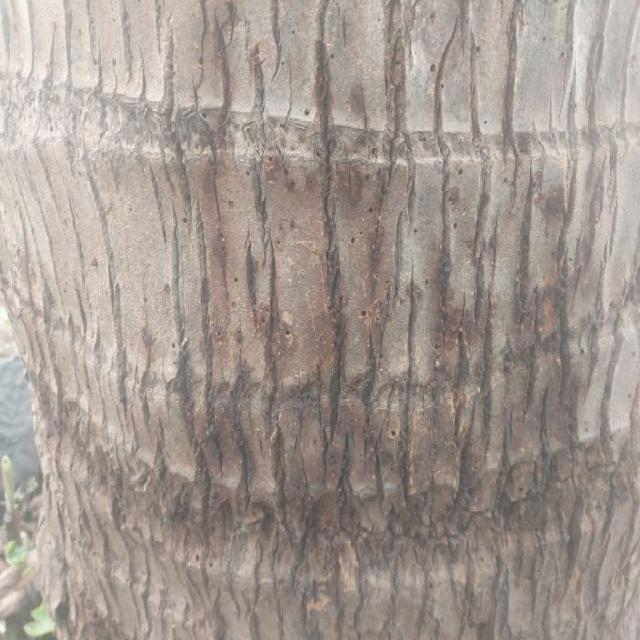stembleeding: (135, 74, 612, 614)
